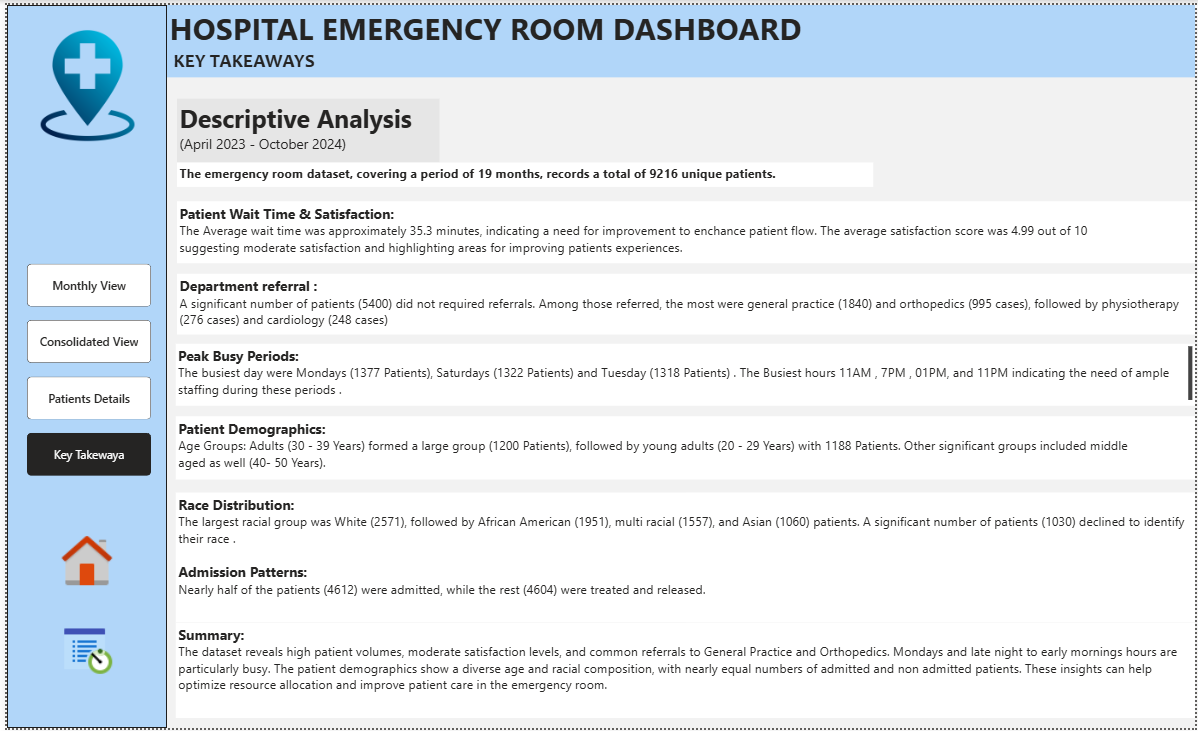

This screenshot's page, from the dashboard's own definition file:
{"tool":"powerbi","page":{"name":"Key Takewaya","canvas":[2300,1400],"ordinal":3},"visuals":[{"type":"shape","box":[0,0,309.6,1400.5],"z":0},{"type":"shape","box":[309.6,0,1990.7,140],"z":1000},{"type":"textbox","box":[309.6,0,1990.7,140.3],"z":2000},{"type":"textbox","box":[309.6,79.8,307.2,60.5],"z":3000},{"type":"image","box":[36.3,43.5,239.5,224.9],"z":4000},{"type":"textbox","box":[329,181.4,508,123.4],"z":5000},{"type":"textbox","box":[330,305,1347.5,47.5],"z":6000},{"type":"textbox","box":[330,380,1970,120],"z":7000},{"type":"textbox","box":[330,520,1970,117.5],"z":8000},{"type":"textbox","box":[327.5,655,1972.5,120],"z":9000},{"type":"textbox","box":[327.5,795,1972.5,122.5],"z":10000},{"type":"textbox","box":[327.5,942.5,1972.5,132.5],"z":11000},{"type":"textbox","box":[327.5,1075,1972.5,120],"z":12000},{"type":"textbox","box":[327.5,1195,1972.5,185],"z":13000},{"type":"pageNavigator","box":[37.5,500,240,412.5],"z":14000},{"type":"image","box":[94.3,1008.6,120.9,140.3],"z":14001},{"type":"image","box":[96.8,1180.4,120.9,140.3],"z":14002}]}

Visuals, with their boxes in screenshot pixels (x1, y1, x2, y2), scaled from the page's 2300x1400 canvas onto the 1198x731 screenshot:
shape: (0, 0, 161, 730)
shape: (161, 0, 1197, 73)
textbox: (161, 0, 1197, 73)
textbox: (161, 42, 321, 73)
image: (19, 23, 144, 140)
textbox: (171, 95, 436, 159)
textbox: (172, 159, 874, 184)
textbox: (172, 198, 1197, 261)
textbox: (172, 272, 1197, 333)
textbox: (171, 342, 1197, 405)
textbox: (171, 415, 1197, 479)
textbox: (171, 492, 1197, 561)
textbox: (171, 561, 1197, 624)
textbox: (171, 624, 1197, 721)
pageNavigator: (20, 261, 145, 476)
image: (49, 527, 112, 600)
image: (50, 616, 113, 690)
